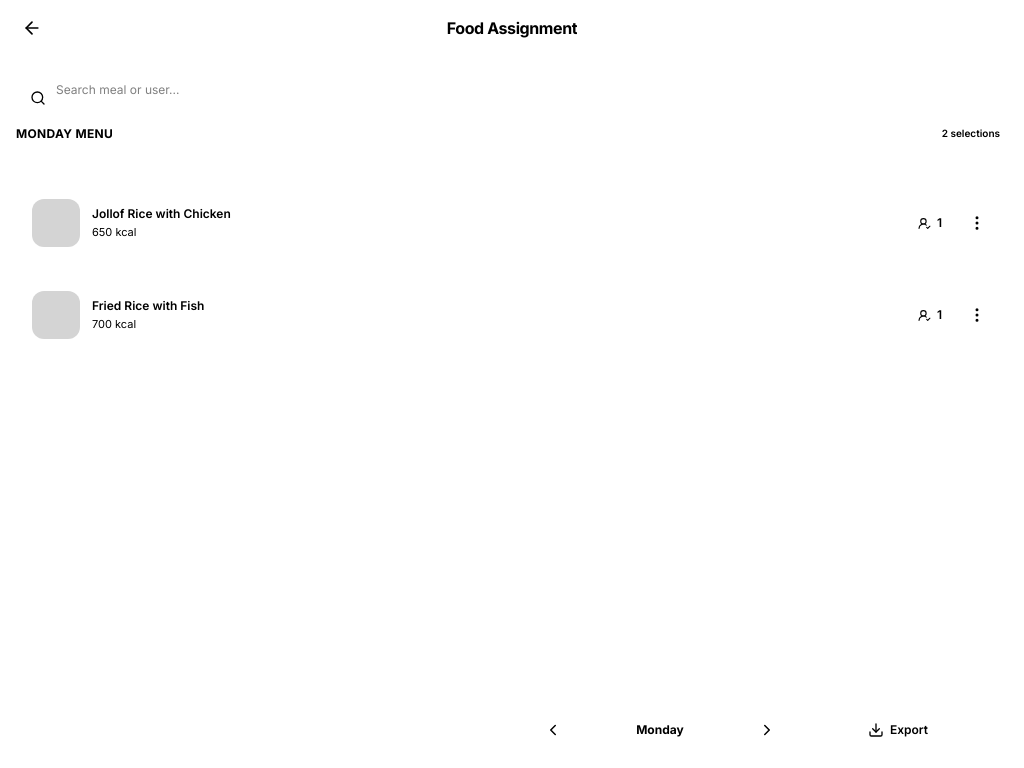
Test case: SelectionActivity (Food Assignment) › filters strictly by createdFor / recipient and ignores createdBy creator name
The width and height of the screenshot is (1024, 768).
// Searching Hubert should only return Fried Rice (created for Hubert), NOT Jollof (created for Caleb by Hubert)
Type "Hubert" into the field with placeholder "Search meal or user...".
click(512, 90); type("Hubert")  # box [16, 72, 1008, 108]
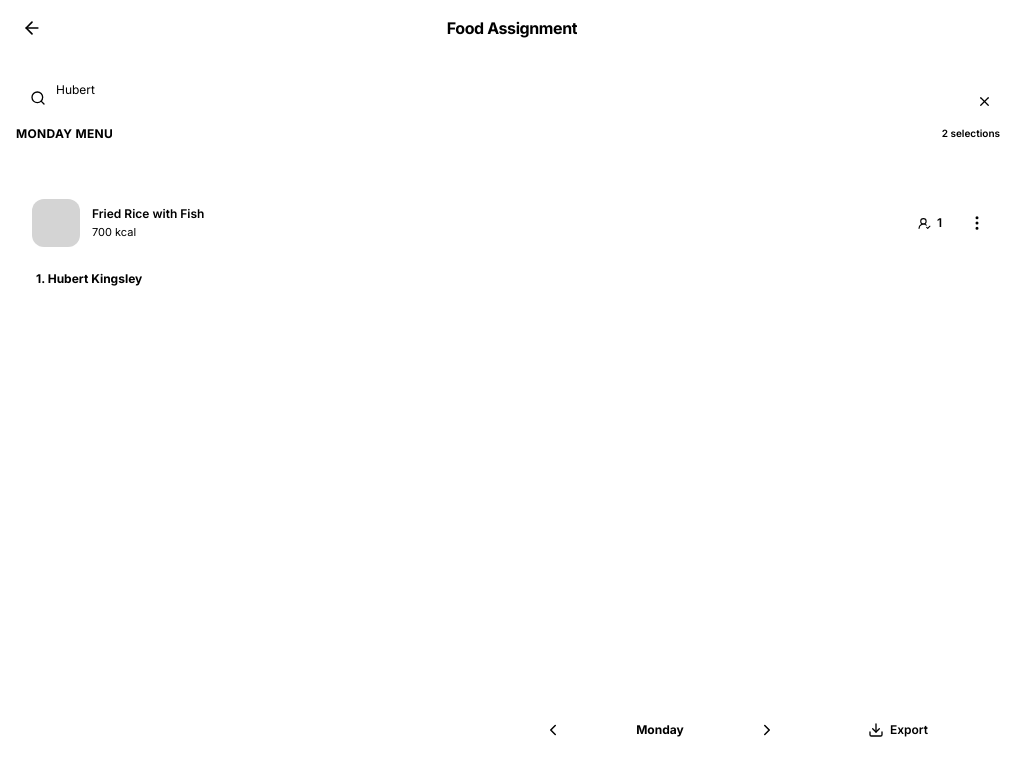
Check: the heading "Fried Rice with Fish" is shown, box [92, 206, 204, 220]
Check: the heading "Jollof Rice with Chicken" is gone
Check: the text "1. Hubert Kingsley" is shown, box [36, 271, 142, 287]
